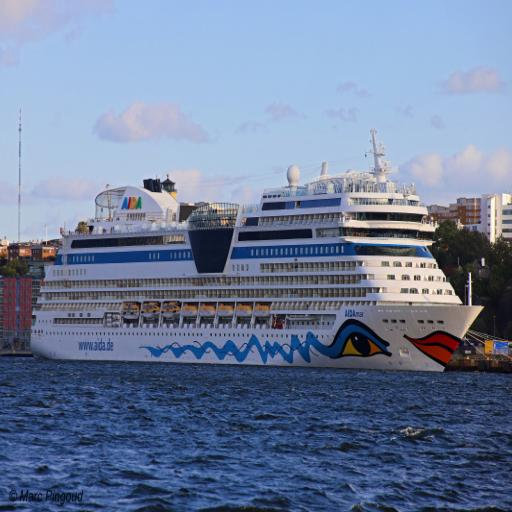cruises: (34, 137, 486, 379)
